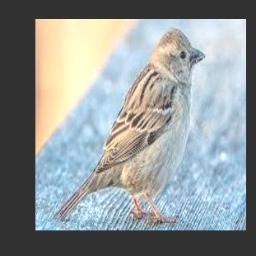Sparrow: (54, 27, 206, 223)
